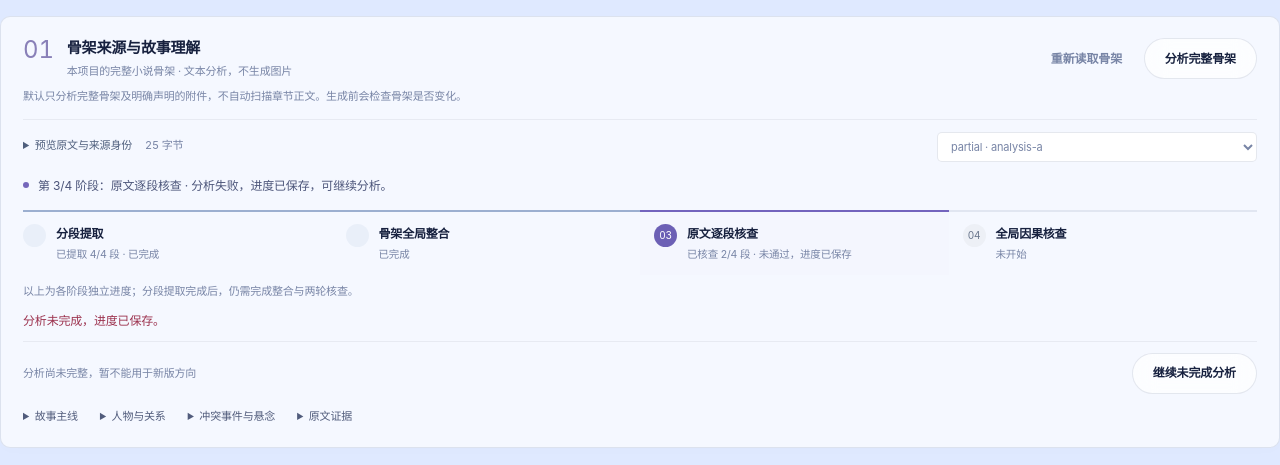
Test: resuming verification keeps its saved counts visible while polling the same analysis
Check: the list item "03 原文逐段核查 已核查 2/4 段 · 未通过，进度已保存" is shown, box x1=640 y1=210 x2=948 y2=275
Click the button "继续未完成分析". click: (1194, 373)
box: x1=1132 y1=353 x2=1257 y2=394
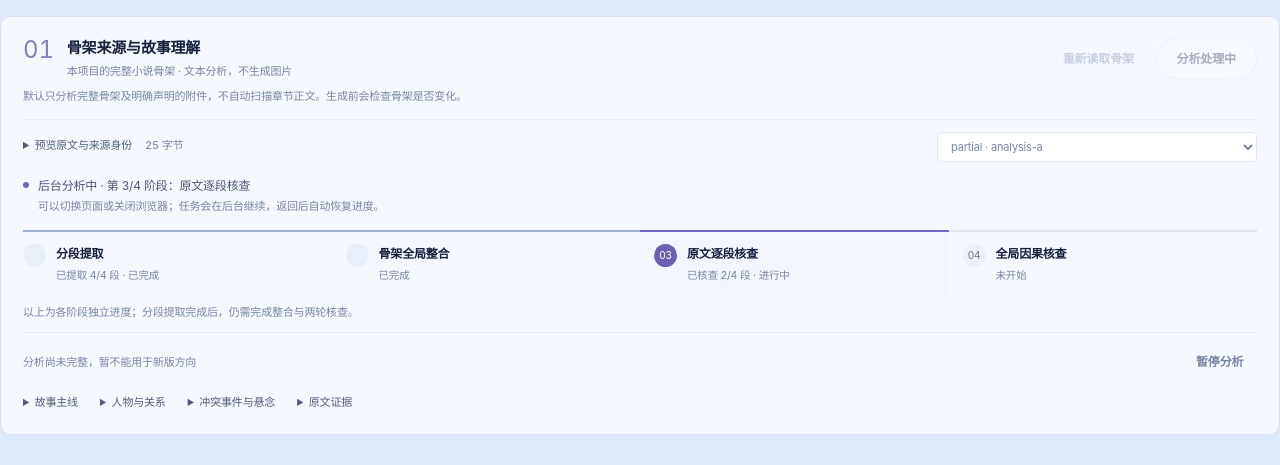
Check: the text "后台分析中 · 第 3/4 阶段：原文逐段核查" is shown, box x1=38 y1=178 x2=250 y2=193
Check: the list item "03 原文逐段核查 已核查 2/4 段 · 进行中" is shown, box x1=640 y1=230 x2=948 y2=296
Check: the button "暂停分析" is enabled, box x1=1182 y1=344 x2=1257 y2=380
